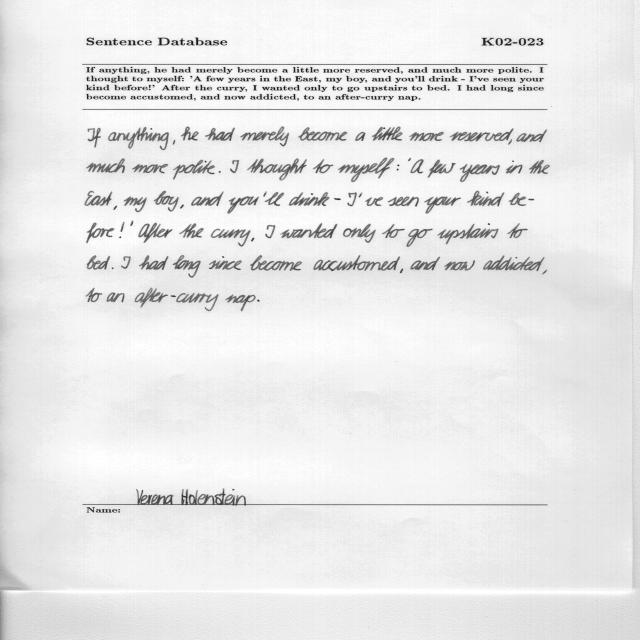word: (83, 489, 277, 505), (135, 288, 219, 311), (108, 127, 169, 150), (314, 256, 400, 272), (338, 158, 394, 182), (247, 159, 307, 181), (438, 223, 499, 244), (483, 256, 545, 272), (240, 127, 289, 146), (281, 223, 338, 238), (173, 160, 215, 180), (450, 129, 514, 142), (250, 255, 302, 271), (459, 164, 500, 182), (211, 229, 251, 247), (298, 127, 348, 141), (139, 223, 173, 243), (173, 255, 201, 278), (343, 224, 376, 243), (425, 197, 461, 214), (467, 191, 504, 207), (227, 196, 259, 214), (87, 158, 125, 173), (289, 192, 329, 206), (87, 223, 115, 243), (225, 295, 256, 312), (154, 191, 179, 212), (428, 160, 456, 178), (406, 229, 433, 247), (191, 192, 224, 206), (209, 256, 242, 270), (139, 255, 168, 270), (372, 127, 403, 141), (205, 127, 235, 141), (85, 191, 112, 206), (516, 130, 547, 143), (410, 257, 440, 270), (179, 223, 204, 238), (124, 197, 147, 213), (132, 164, 168, 174), (87, 255, 110, 270), (388, 196, 419, 207), (444, 260, 475, 271), (359, 192, 383, 206), (509, 193, 534, 206), (382, 224, 405, 238), (409, 132, 444, 141), (264, 191, 285, 206), (507, 223, 528, 238), (529, 160, 550, 174), (313, 159, 333, 173), (88, 128, 101, 147), (181, 127, 199, 140), (86, 288, 102, 302), (506, 161, 523, 174), (410, 159, 424, 174), (107, 293, 125, 303), (347, 192, 357, 206), (266, 225, 276, 238), (121, 256, 131, 269), (230, 160, 239, 173), (355, 132, 366, 141), (119, 222, 125, 238), (542, 270, 547, 275), (508, 139, 512, 145), (180, 204, 184, 209), (397, 165, 400, 171), (114, 206, 118, 210), (130, 221, 133, 226), (334, 198, 341, 200), (251, 238, 254, 242), (400, 269, 403, 273), (173, 140, 175, 145), (408, 158, 411, 161), (257, 300, 260, 302), (219, 171, 221, 173), (112, 268, 114, 270), (233, 489, 235, 490)
